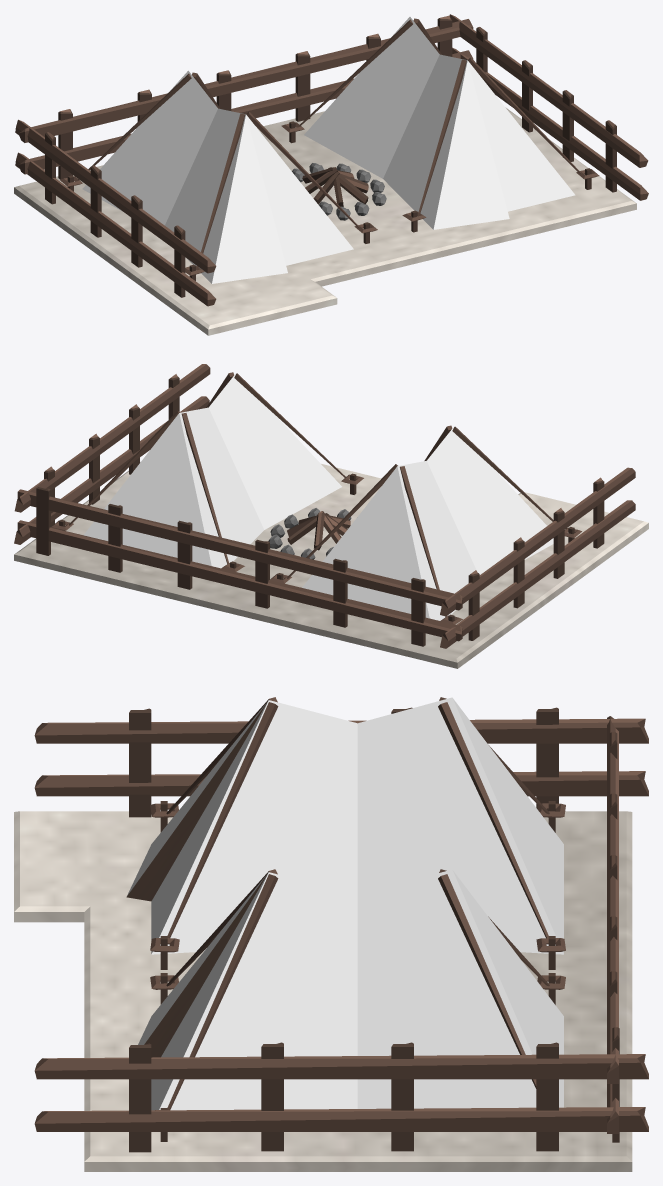
Rendered from Camp_0lvl.fbx.
The picture shows the model from 3 angles, top to bottom: view 1: azimuth 30°, elevation 25°; view 2: azimuth 150°, elevation 25°; view 3: azimuth 270°, elevation 25°; orthographic projection. The views are drawn at different scales.
Parts seen in each view (by area): view 1: Camp_0lvl; view 2: Camp_0lvl; view 3: Camp_0lvl.
Part boxes in pixels (left/top/right/bottom): Camp_0lvl: left=14, top=14, right=648, bottom=335; Camp_0lvl: left=14, top=364, right=648, bottom=668; Camp_0lvl: left=14, top=697, right=648, bottom=1171.
Bounding box in the file's own units: 6.01 × 1.73 × 4.6.
1 material, 1 textured.
